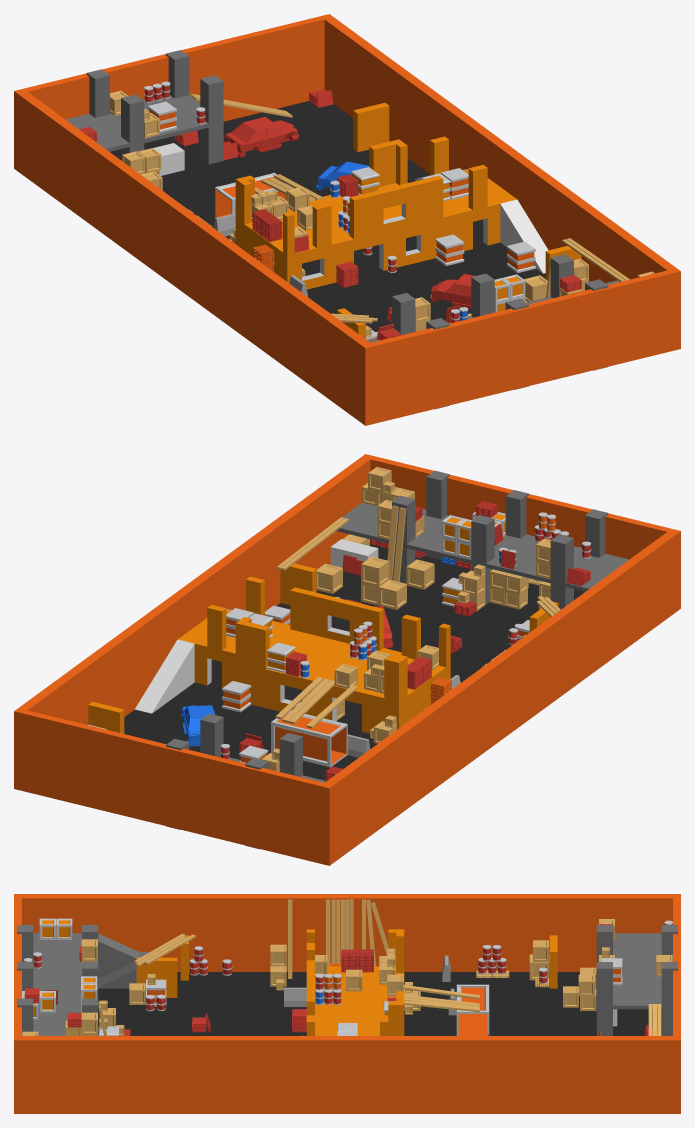
The model's file is map_old.glb.
3 views of the same model, one above another, from view 1: azimuth 30°, elevation 25°; view 2: azimuth 150°, elevation 25°; view 3: azimuth 270°, elevation 25° (orthographic). The views are drawn at different scales.
Visible parts, largest first — view 1: floors, Plane, room, Cube.016, Cube.004, Cube.007, Cube.001, obj.004, Cube.006, Cube.005, BigBox.001, BigBox.004 (+2 smaller); view 2: floors, room, Plane, Cube.004, Cube.005, Cube.016, Cube.002, obj.002, obj.004, Cube.017, Cube.035, BigBox.002 (+4 smaller); view 3: floors, Plane, Cube.016, Cube.004, room, up2, Cube.005, Cube.030, obj.024, obj.028, Cube.023, Cube.036 (+18 smaller).
Boxes of the visible parts, x1=… form: floors: x1=14, y1=14, x2=680, y2=425; Plane: x1=110, y1=101, x2=545, y2=331; room: x1=235, y1=136, x2=516, y2=289; Cube.016: x1=65, y1=50, x2=223, y2=164; Cube.004: x1=368, y1=254, x2=619, y2=409; Cube.007: x1=224, y1=116, x2=299, y2=157; Cube.001: x1=500, y1=199, x2=548, y2=273; obj.004: x1=353, y1=103, x2=389, y2=152; Cube.006: x1=430, y1=274, x2=474, y2=308; Cube.005: x1=215, y1=172, x2=289, y2=218; BigBox.001: x1=435, y1=234, x2=464, y2=265; BigBox.004: x1=506, y1=241, x2=535, y2=273; floors: x1=14, y1=454, x2=680, y2=865; room: x1=178, y1=576, x2=450, y2=733; Plane: x1=124, y1=544, x2=584, y2=780; Cube.004: x1=336, y1=470, x2=629, y2=609; Cube.005: x1=271, y1=710, x2=347, y2=767; Cube.016: x1=166, y1=713, x2=325, y2=849; Cube.002: x1=134, y1=639, x2=194, y2=713; obj.002: x1=280, y1=563, x2=316, y2=605; obj.004: x1=88, y1=701, x2=124, y2=733; Cube.017: x1=330, y1=539, x2=378, y2=567; Cube.035: x1=181, y1=705, x2=215, y2=746; BigBox.002: x1=222, y1=681, x2=251, y2=712; floors: x1=14, y1=894, x2=680, y2=1113; Plane: x1=98, y1=972, x2=661, y2=1035; Cube.016: x1=596, y1=925, x2=677, y2=1035; Cube.004: x1=17, y1=925, x2=98, y2=1035; room: x1=306, y1=929, x2=404, y2=1035; up2: x1=98, y1=933, x2=149, y2=988; Cube.005: x1=456, y1=984, x2=489, y2=1035; Cube.030: x1=331, y1=899, x2=349, y2=963; obj.024: x1=136, y1=957, x2=177, y2=997; obj.028: x1=549, y1=935, x2=557, y2=988; Cube.023: x1=362, y1=899, x2=375, y2=966; Cube.036: x1=284, y1=987, x2=306, y2=1006.
Size of the model in its own units: 8.5 by 2.1 by 16.4.
